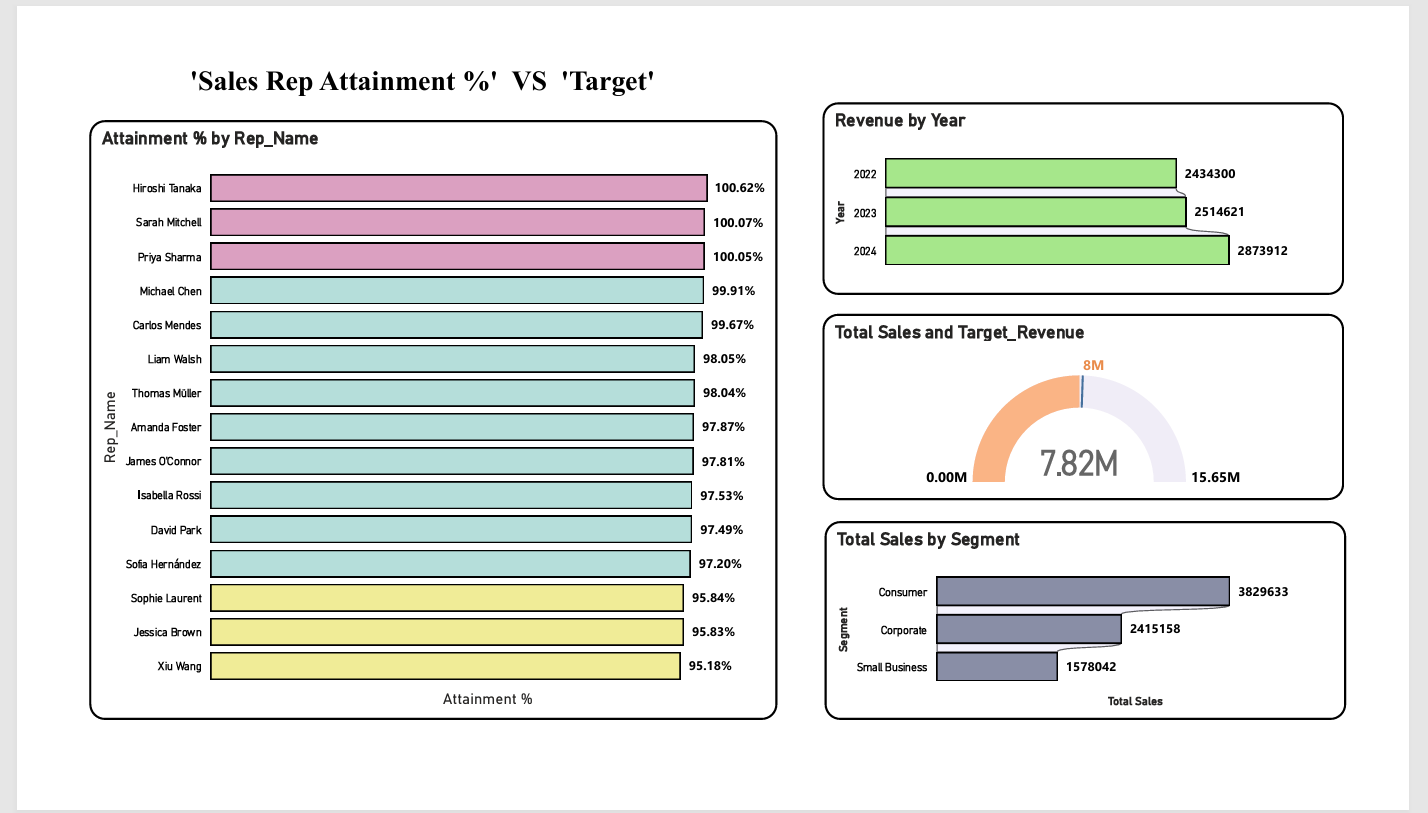

The page's visual inventory and layout, read from the dashboard file:
{"tool":"powerbi","page":{"name":"Page 3","canvas":[1280,720],"ordinal":2},"visuals":[{"type":"barChart","fields":{"Category":["Sales_Reps.Rep_Name"],"Y":["Orders.Attainment"]},"box":[45,85,656.7,573.3],"z":0},{"type":"textbox","box":[128.3,26.7,470,41.7],"z":1000},{"type":"barChart","fields":{"Y":["Sum(Orders.Sales)"],"Category":["Orders.Order_Date.Variation.Date Hierarchy.Year"]},"box":[745,68.3,498.3,183.3],"z":2000},{"type":"barChart","fields":{"Category":["Customers (2).Segment"],"Y":["Sum(Orders.Sales)"]},"box":[746.7,468.3,498.3,190],"z":3000},{"type":"gauge","fields":{"Y":["Sum(Orders.Sales)"],"TargetValue":["Sum(Targets.Target_Revenue)"]},"box":[745,270,498.3,178.3],"z":4000}]}

Visuals, with their boxes in screenshot pixels (x1, y1, x2, y2), scaled from the page's 1280x720 canvas onto the 1428x813 screenshot:
barChart - Sales_Reps.Rep_Name x Orders.Attainment: <region>50, 96, 783, 743</region>
textbox: <region>143, 30, 667, 77</region>
barChart - Sum(Orders.Sales) x Orders.Order_Date.Variation.Date Hierarchy.Year: <region>831, 77, 1387, 284</region>
barChart - Customers (2).Segment x Sum(Orders.Sales): <region>833, 529, 1389, 743</region>
gauge - Sum(Orders.Sales) x Sum(Targets.Target_Revenue): <region>831, 305, 1387, 506</region>
